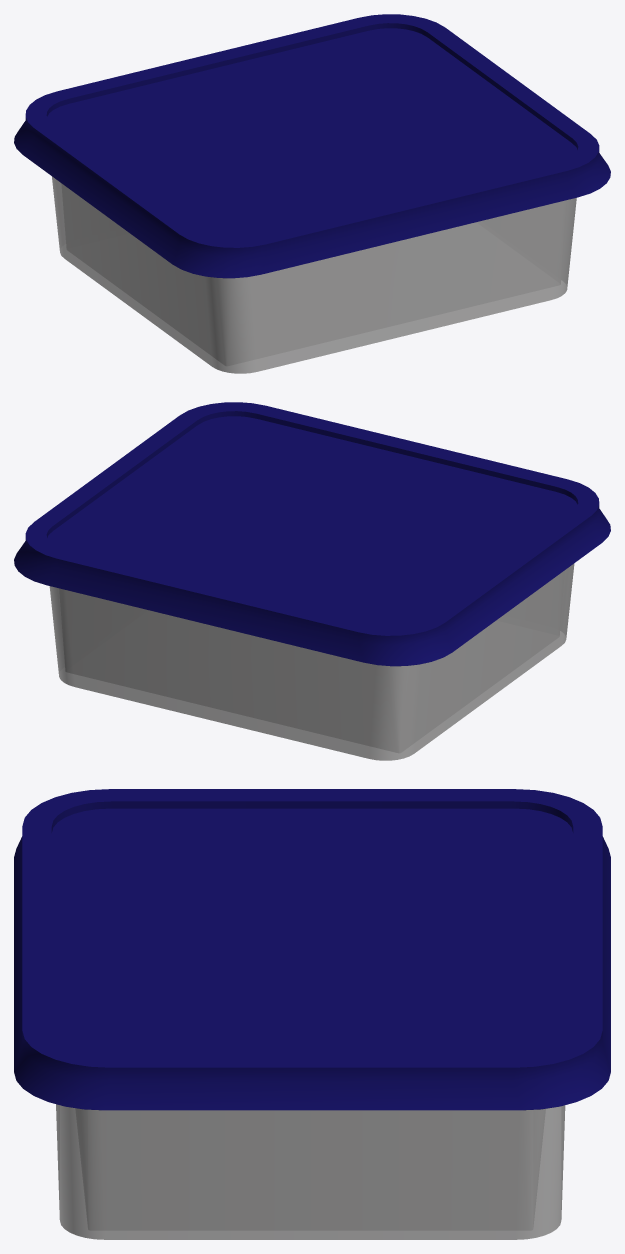
Rendered from Tupper 2.fbx.
3 views of the same model, one above another, from view 1: azimuth 30°, elevation 25°; view 2: azimuth 150°, elevation 25°; view 3: azimuth 270°, elevation 25° (orthographic). The views are drawn at different scales.
Parts seen in each view (by area): view 1: tupper 2; view 2: tupper 2; view 3: tupper 2.
Part boxes in pixels (<box>): tupper 2: <box>14,14,610,373</box>; tupper 2: <box>14,402,610,760</box>; tupper 2: <box>14,789,610,1239</box>.
Size of the model in its own units: 17.06 by 5.26 by 14.79.
